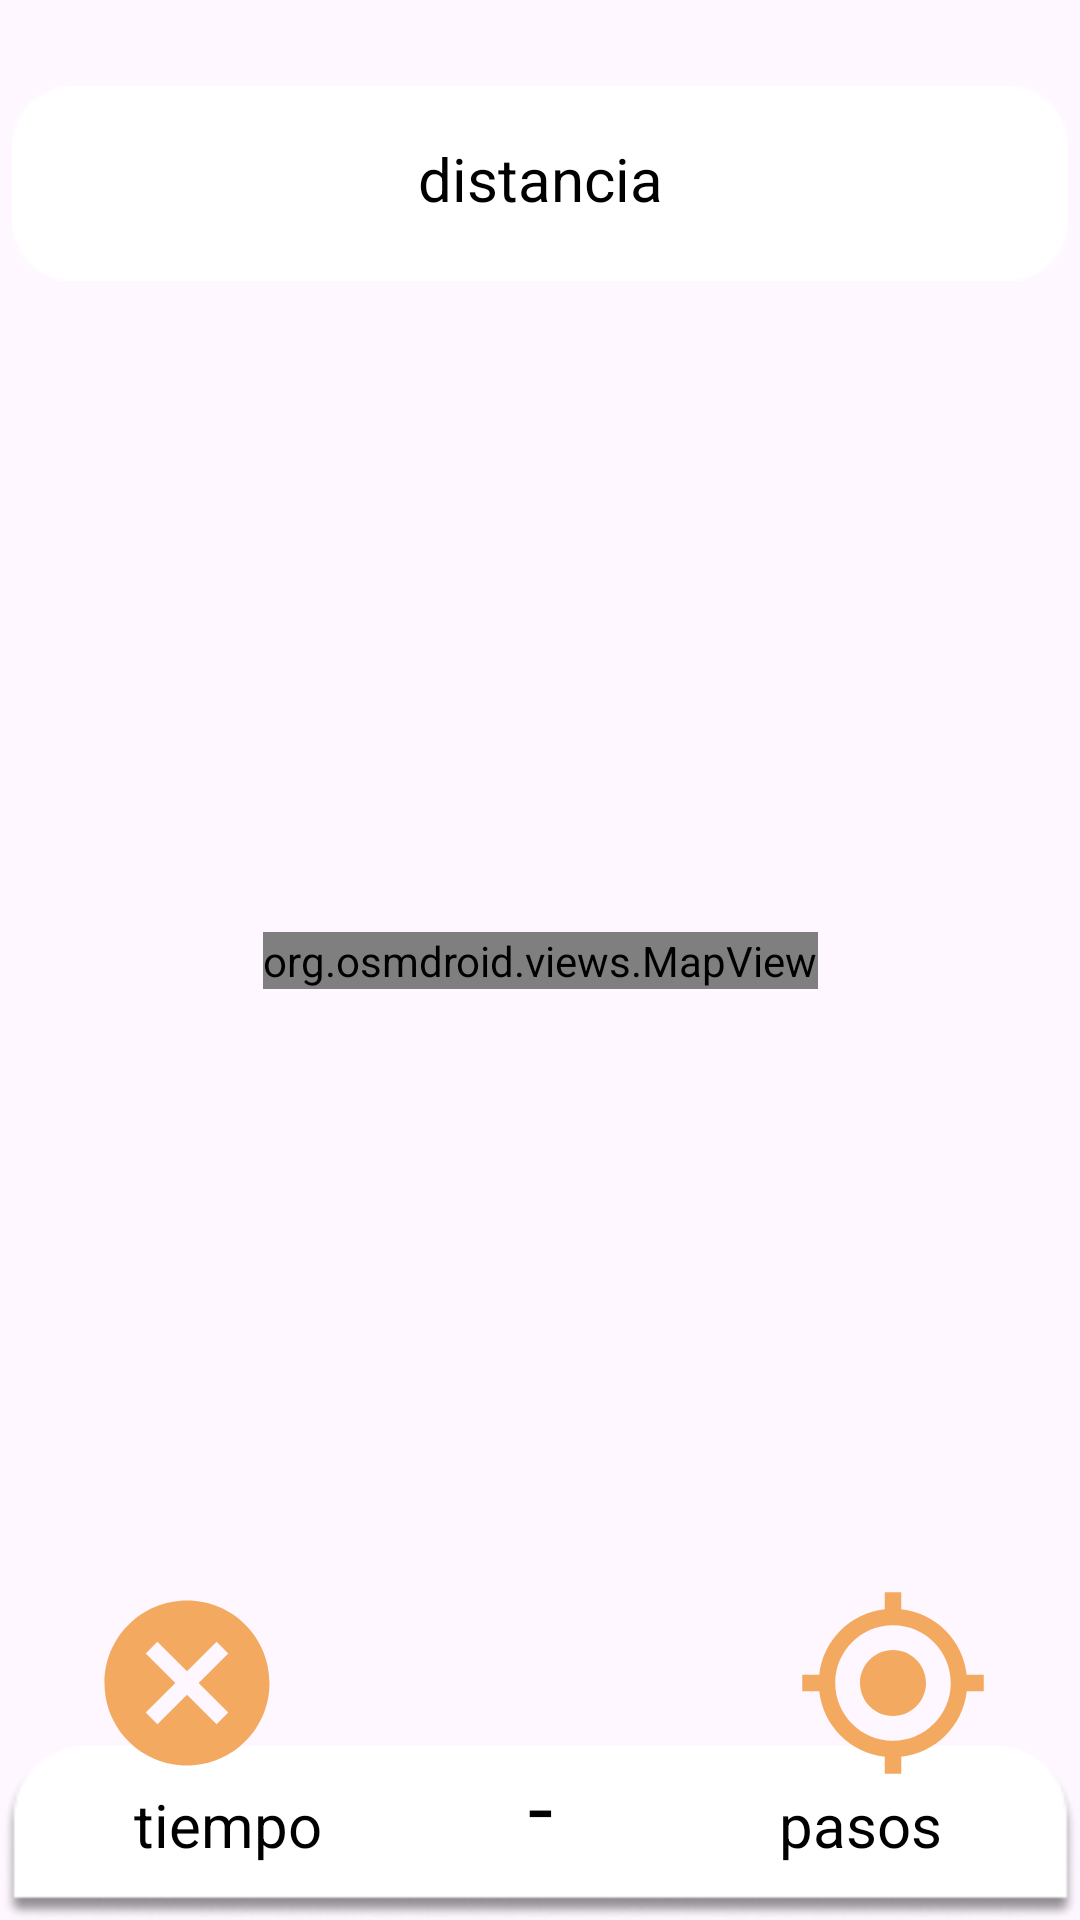

Point at icon controls on the screen. Image size 1080×1920, points as point (x, y).
cancel: point (187, 1683)
location: point (893, 1683)
